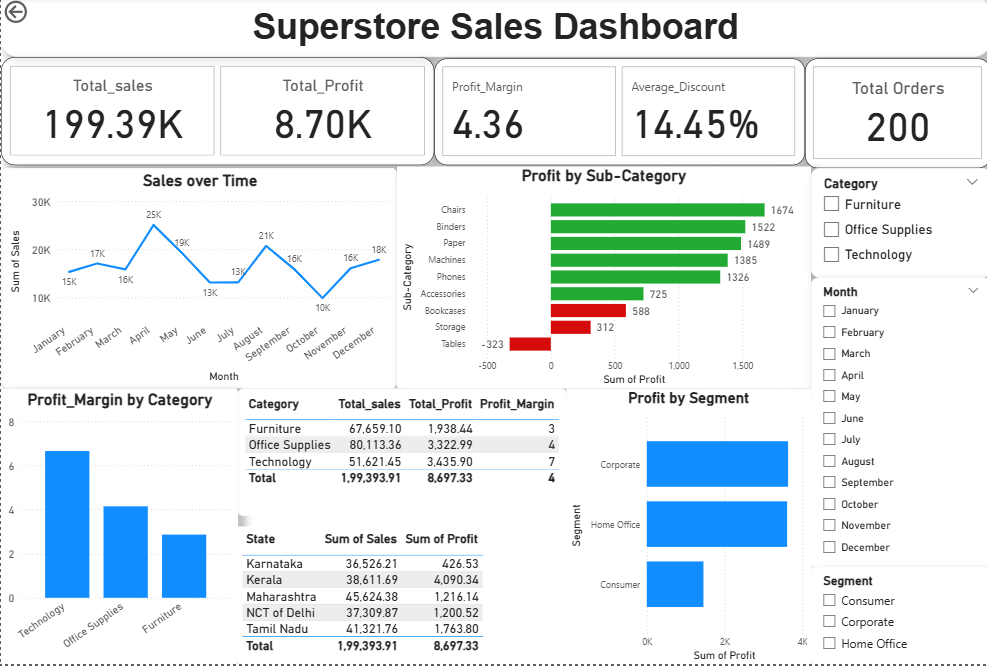

The page's visual inventory and layout, read from the dashboard file:
{"tool":"powerbi","page":{"name":"Page 1","canvas":[1336,900],"ordinal":0},"visuals":[{"type":"textbox","box":[0,0,1335.4,80.9],"z":0},{"type":"cardVisual","fields":{"Data":["Superstore_Sales_Project_Dataset (1).Total_sales","Superstore_Sales_Project_Dataset (1).Total_Profit"]},"box":[0,81,584.9,145.7],"z":1000},{"type":"cardVisual","fields":{"Data":["Superstore_Sales_Project_Dataset (1).Profit_Margin","Superstore_Sales_Project_Dataset (1).Average_Discount"]},"box":[584.9,83,499.9,143.7],"z":2000},{"type":"lineChart","title":"Sales over Time","fields":{"Category":["Superstore_Sales_Project_Dataset (1).Order_Date.Variation.Date Hierarchy.Month"],"Y":["Sum(Superstore_Sales_Project_Dataset (1).Sales)"]},"box":[2,230.7,532.3,297.5],"z":3000},{"type":"cardVisual","fields":{"Data":["Superstore_Sales_Project_Dataset (1).Total Orders"]},"box":[1084.9,83,251,147.8],"z":4000},{"type":"clusteredBarChart","title":"Profit by Sub-Category","fields":{"Category":["Superstore_Sales_Project_Dataset (1).Sub-Category"],"Y":["Sum(Superstore_Sales_Project_Dataset (1).Profit)"]},"box":[534.3,228.7,558.6,299.6],"z":5000},{"type":"clusteredColumnChart","fields":{"Category":["Superstore_Sales_Project_Dataset (1).Category"],"Y":["Superstore_Sales_Project_Dataset (1).Profit_Margin"]},"box":[0,528.3,319.8,372.4],"z":6000},{"type":"slicer","fields":{"Values":["Superstore_Sales_Project_Dataset (1).Category"]},"box":[1093,230.7,242.9,147.8],"z":7000},{"type":"actionButton","box":[0,0,100,40],"z":8000},{"type":"slicer","fields":{"Values":["Superstore_Sales_Project_Dataset (1).Order_Date.Variation.Date Hierarchy.Month"]},"box":[1093,378.5,242.9,392.7],"z":9000},{"type":"slicer","fields":{"Values":["Superstore_Sales_Project_Dataset (1).Segment"]},"box":[1093,769.1,242.9,131.6],"z":10000},{"type":"tableEx","fields":{"Values":["Superstore_Sales_Project_Dataset (1).Category","Superstore_Sales_Project_Dataset (1).Total_sales","Superstore_Sales_Project_Dataset (1).Total_Profit","Superstore_Sales_Project_Dataset (1).Profit_Margin"]},"box":[319.8,528.3,443.3,172],"z":11000},{"type":"clusteredBarChart","title":"Profit by Segment","fields":{"Y":["Sum(Superstore_Sales_Project_Dataset (1).Profit)"],"Category":["Superstore_Sales_Project_Dataset (1).Segment"]},"box":[763.1,528.3,329.9,372.4],"z":12000},{"type":"tableEx","fields":{"Values":["Superstore_Sales_Project_Dataset (1).State","Sum(Superstore_Sales_Project_Dataset (1).Sales)","Sum(Superstore_Sales_Project_Dataset (1).Profit)"]},"box":[319.8,714.5,406.8,186.2],"z":13000}]}

Visuals, with their boxes on the page's 1336x900 design canvas (x1, y1, x2, y2). These are canvas units, not pixel positions in the 987x666 screenshot, which may show the page scaled, cropped or inside an application window:
textbox: <bbox>0, 0, 1335, 81</bbox>
cardVisual - Superstore_Sales_Project_Dataset (1).Total_sales x Superstore_Sales_Project_Dataset (1).Total_Profit: <bbox>0, 81, 585, 227</bbox>
cardVisual - Superstore_Sales_Project_Dataset (1).Profit_Margin x Superstore_Sales_Project_Dataset (1).Average_Discount: <bbox>585, 83, 1085, 227</bbox>
"Sales over Time" lineChart: <bbox>2, 231, 534, 528</bbox>
cardVisual - Superstore_Sales_Project_Dataset (1).Total Orders: <bbox>1085, 83, 1336, 231</bbox>
"Profit by Sub-Category" clusteredBarChart: <bbox>534, 229, 1093, 528</bbox>
clusteredColumnChart - Superstore_Sales_Project_Dataset (1).Category x Superstore_Sales_Project_Dataset (1).Profit_Margin: <bbox>0, 528, 320, 901</bbox>
slicer - Superstore_Sales_Project_Dataset (1).Category: <bbox>1093, 231, 1336, 378</bbox>
actionButton: <bbox>0, 0, 100, 40</bbox>
slicer - Superstore_Sales_Project_Dataset (1).Order_Date.Variation.Date Hierarchy.Month: <bbox>1093, 378, 1336, 771</bbox>
slicer - Superstore_Sales_Project_Dataset (1).Segment: <bbox>1093, 769, 1336, 901</bbox>
tableEx - Superstore_Sales_Project_Dataset (1).Category x Superstore_Sales_Project_Dataset (1).Total_sales: <bbox>320, 528, 763, 700</bbox>
"Profit by Segment" clusteredBarChart: <bbox>763, 528, 1093, 901</bbox>
tableEx - Superstore_Sales_Project_Dataset (1).State x Sum(Superstore_Sales_Project_Dataset (1).Sales): <bbox>320, 714, 727, 901</bbox>
